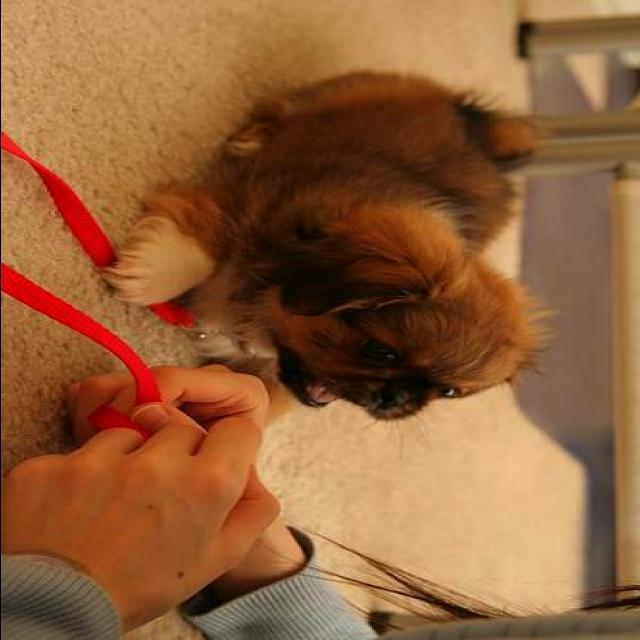pekinese: (96, 66, 559, 428)
